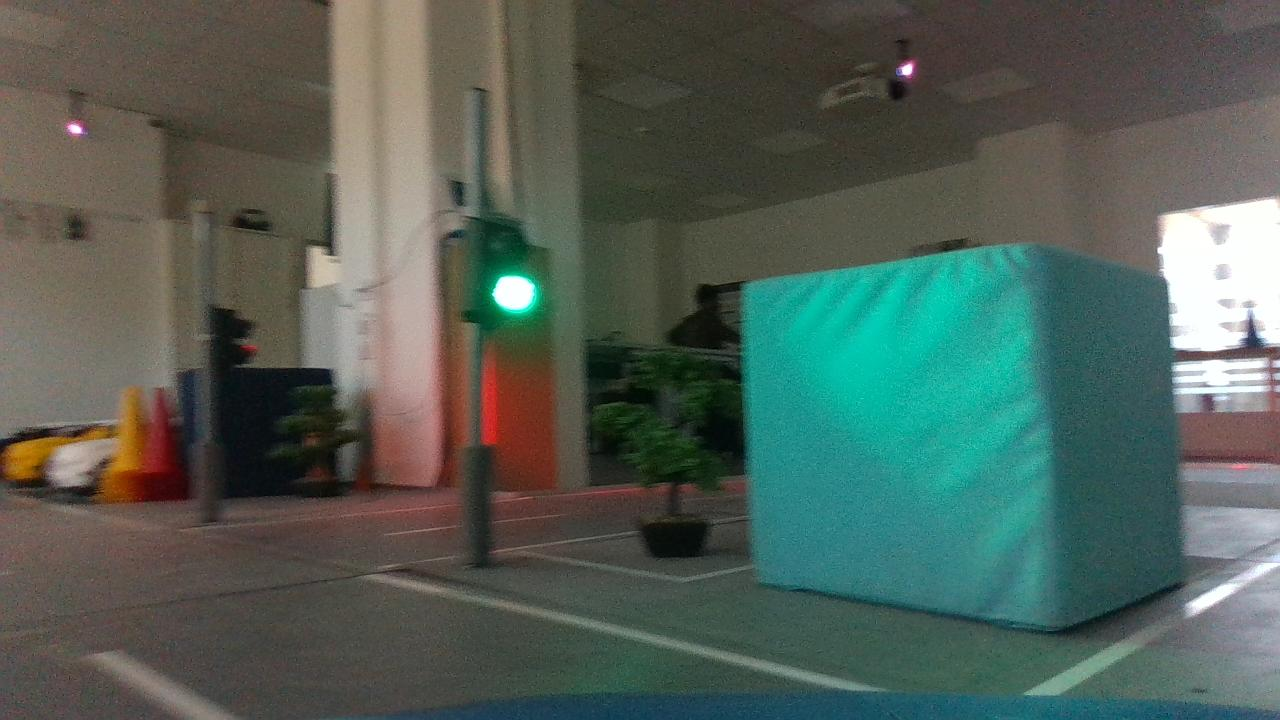traffic_light_green: (444, 208, 561, 350)
